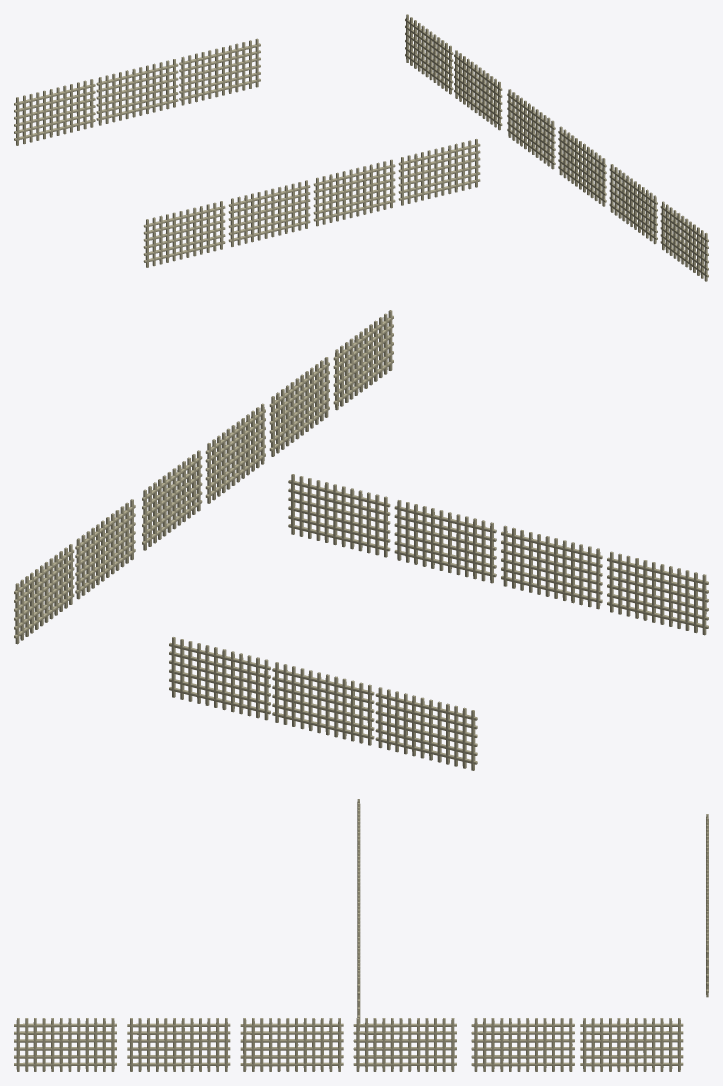
The model's file is column.fbx.
3 renders of one model, top to bottom at view 1: azimuth 30°, elevation 25°; view 2: azimuth 150°, elevation 25°; view 3: azimuth 270°, elevation 25°, orthographic. The views are drawn at different scales.
Parts seen in each view (by area): view 1: Wide_fence23, Wide_fence24, Wide_fence26, Wide_fence25, Wide_fence21, Wide_fence19, Wide_fence22, Wide_fence17, Wide_fence15, Wide_fence18, Wide_fence16, Wide_fence14 (+1 smaller); view 2: Wide_fence23, Wide_fence21, Wide_fence22, Wide_fence19, Wide_fence26, Wide_fence24, Wide_fence25, Wide_fence1, Wide_fence14, Wide_fence17, Wide_fence15, Wide_fence16 (+1 smaller); view 3: Wide_fence15, Wide_fence16, Wide_fence18, Wide_fence14, Wide_fence1, Wide_fence17.
Boxes of the visible parts, left/top/right/bottom form: Wide_fence23: left=398, top=139, right=480, bottom=205; Wide_fence24: left=313, top=159, right=395, bottom=226; Wide_fence26: left=143, top=201, right=225, bottom=267; Wide_fence25: left=228, top=180, right=310, bottom=246; Wide_fence21: left=96, top=59, right=178, bottom=125; Wide_fence19: left=179, top=38, right=260, bottom=105; Wide_fence22: left=14, top=79, right=95, bottom=145; Wide_fence17: left=609, top=164, right=657, bottom=244; Wide_fence15: left=507, top=89, right=555, bottom=169; Wide_fence18: left=660, top=201, right=708, bottom=281; Wide_fence16: left=558, top=126, right=606, bottom=206; Wide_fence14: left=454, top=50, right=502, bottom=130; Wide_fence23: left=288, top=474, right=390, bottom=557; Wide_fence21: left=272, top=662, right=374, bottom=745; Wide_fence22: left=375, top=687, right=477, bottom=770; Wide_fence19: left=169, top=637, right=270, bottom=720; Wide_fence26: left=607, top=551, right=708, bottom=635; Wide_fence24: left=394, top=500, right=496, bottom=583; Wide_fence25: left=501, top=525, right=602, bottom=609; Wide_fence1: left=14, top=544, right=74, bottom=644; Wide_fence14: left=75, top=499, right=135, bottom=599; Wide_fence17: left=269, top=357, right=329, bottom=456; Wide_fence15: left=142, top=450, right=202, bottom=550; Wide_fence16: left=205, top=403, right=265, bottom=503; Wide_fence15: left=353, top=1018, right=456, bottom=1071; Wide_fence16: left=240, top=1018, right=343, bottom=1071; Wide_fence18: left=14, top=1018, right=116, bottom=1071; Wide_fence14: left=471, top=1018, right=574, bottom=1071; Wide_fence1: left=580, top=1018, right=683, bottom=1071; Wide_fence17: left=127, top=1018, right=230, bottom=1071.
Size of the model in its own units: 122 by 13.56 by 161.
